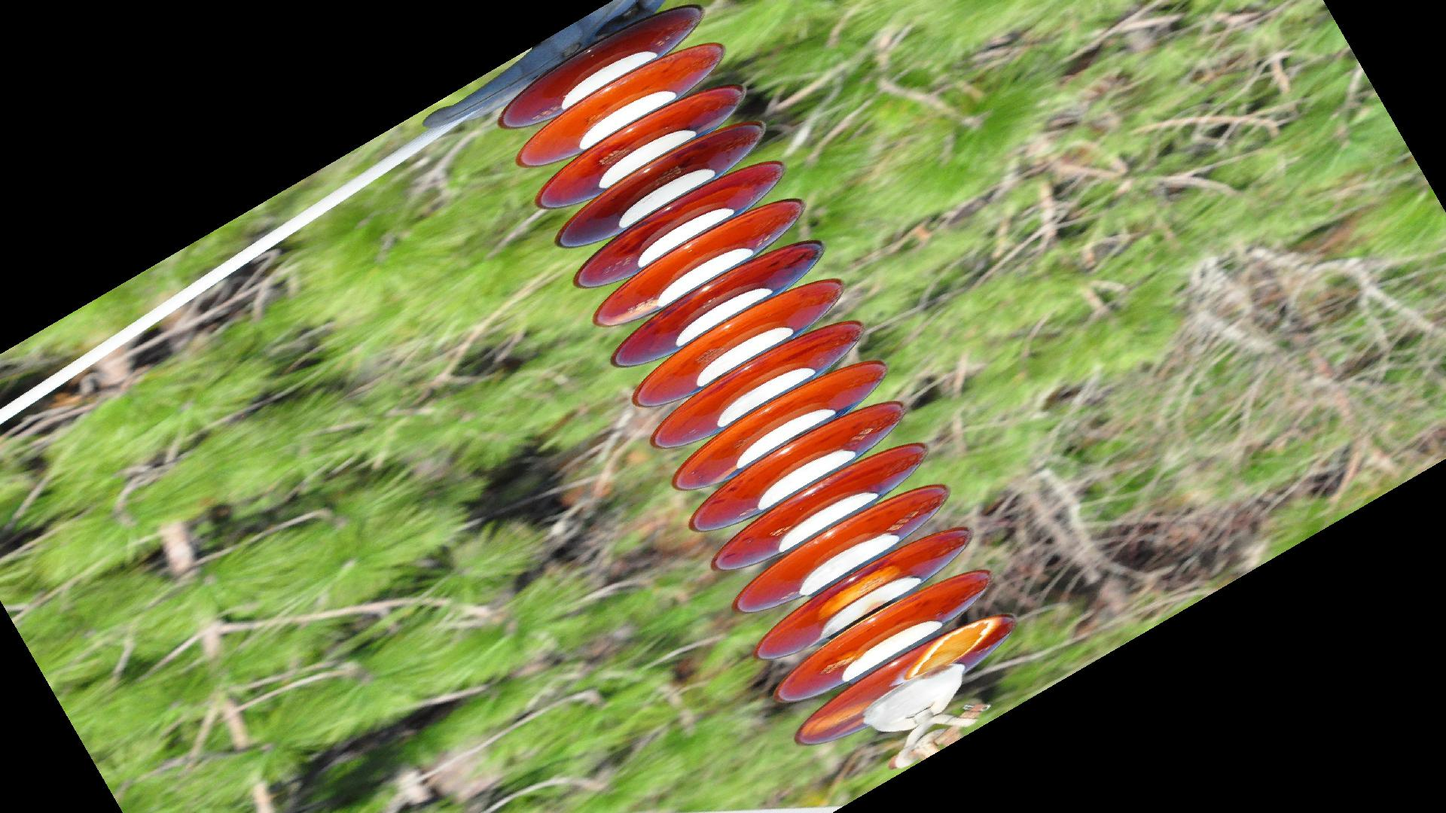insulator: (493, 2, 1019, 750)
insulator_flashover: (903, 613, 1005, 681), (814, 561, 903, 623), (796, 697, 870, 742), (601, 297, 660, 330)
